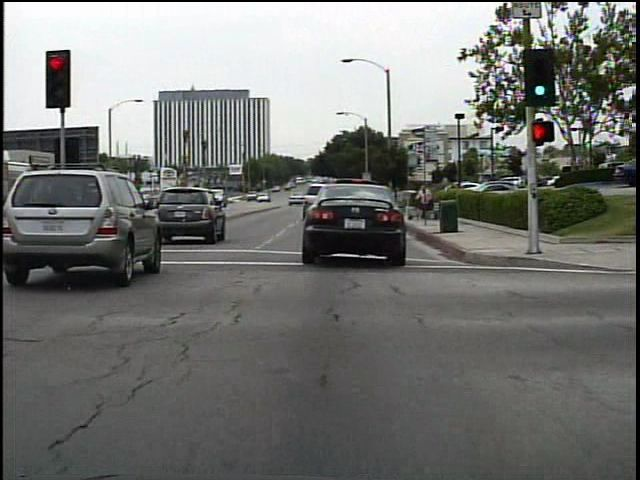person: (413, 180, 434, 225)
